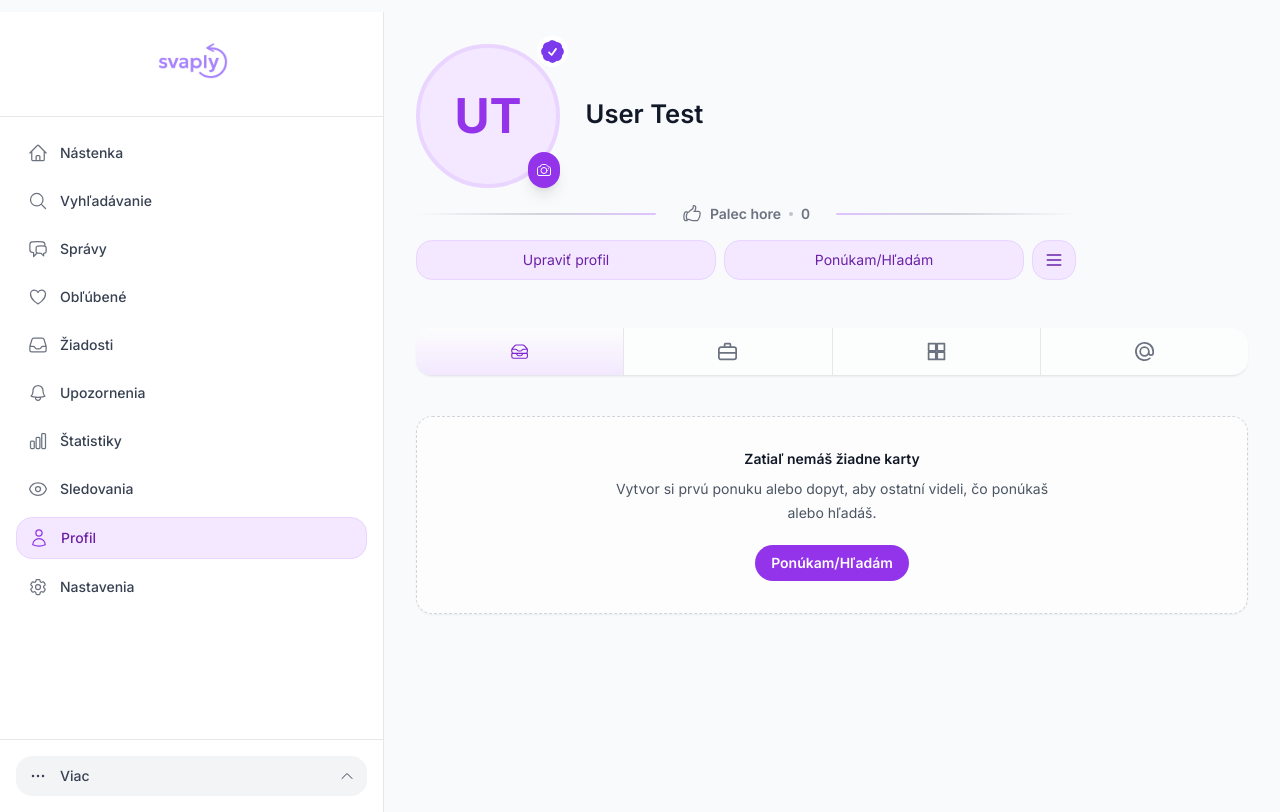
Scenario: Dashboard: scroll po uložení profilu naprieč zmenou obrazovky › desktop: po zrušení úpravy ostáva aktívna záložka profilu
What coordinates should you click on to do the following:
click the tab named "Portfólio"
I would click on:
 (727, 352)
Its box is [623,328,832,375].
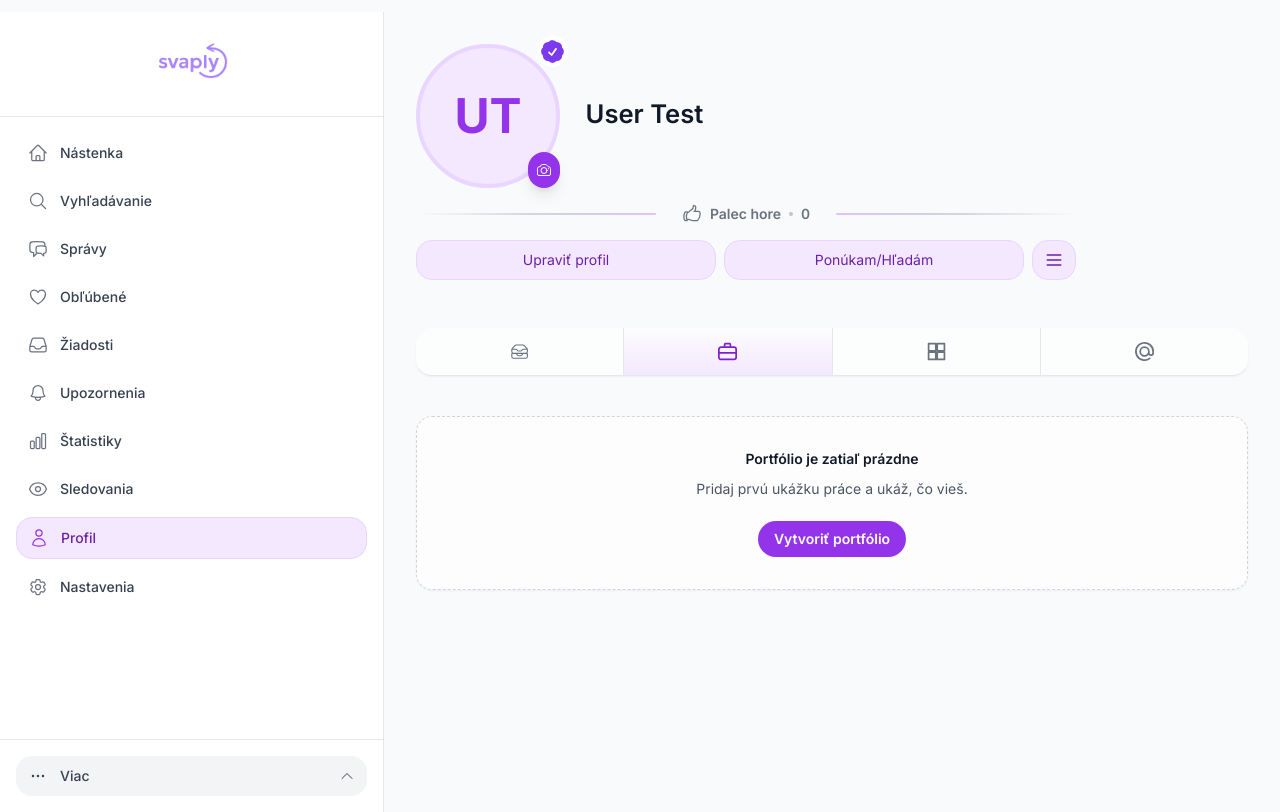
Now the tab named "Portfólio" is selected, box [623,328,832,375]
What coordinates should you click on to do the following:
click the button "Upraviť profil"
I would click on:
 (566, 260)
Its box is [416,240,716,280].
(page scrolled)
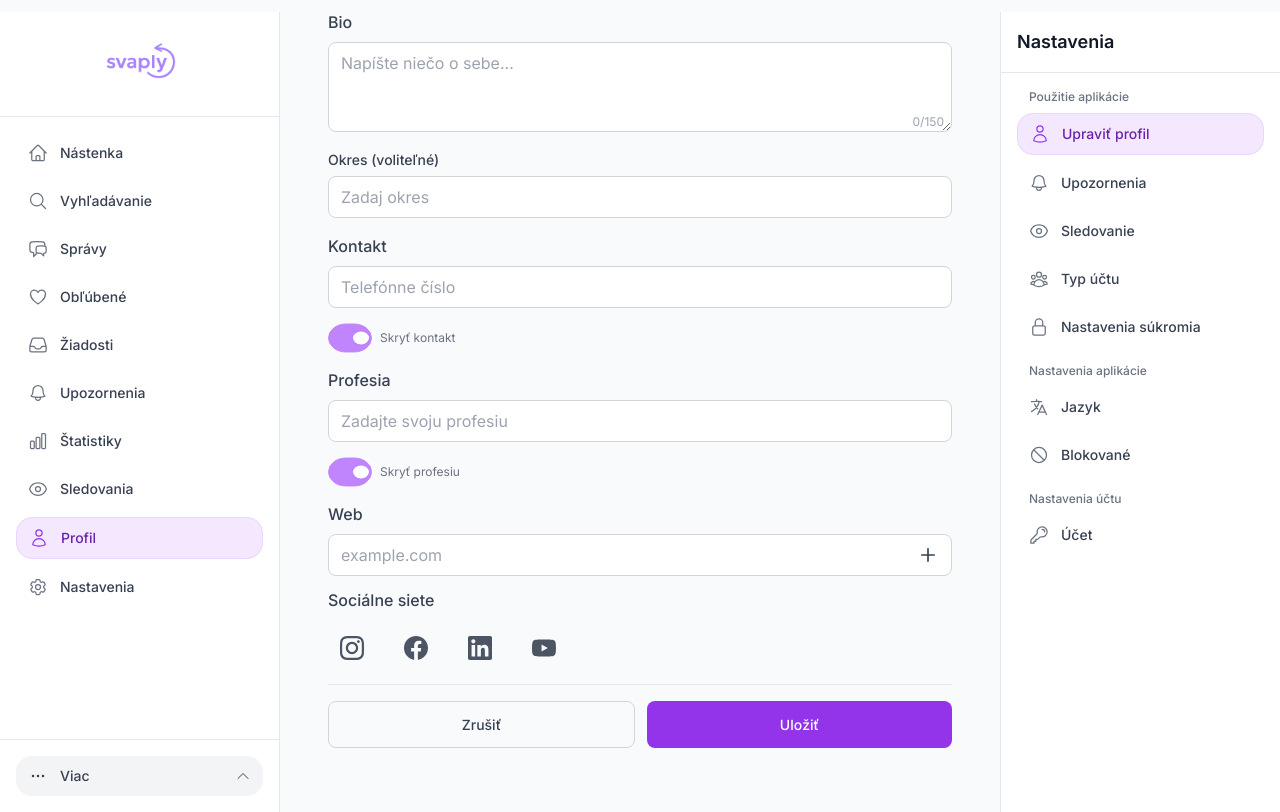
Now the button "Uložiť" is shown, box [647,701,952,748]
What coordinates should you click on to do the following:
click the button "Zrušiť"
I would click on:
 (482, 724)
Its box is [328,701,635,748].
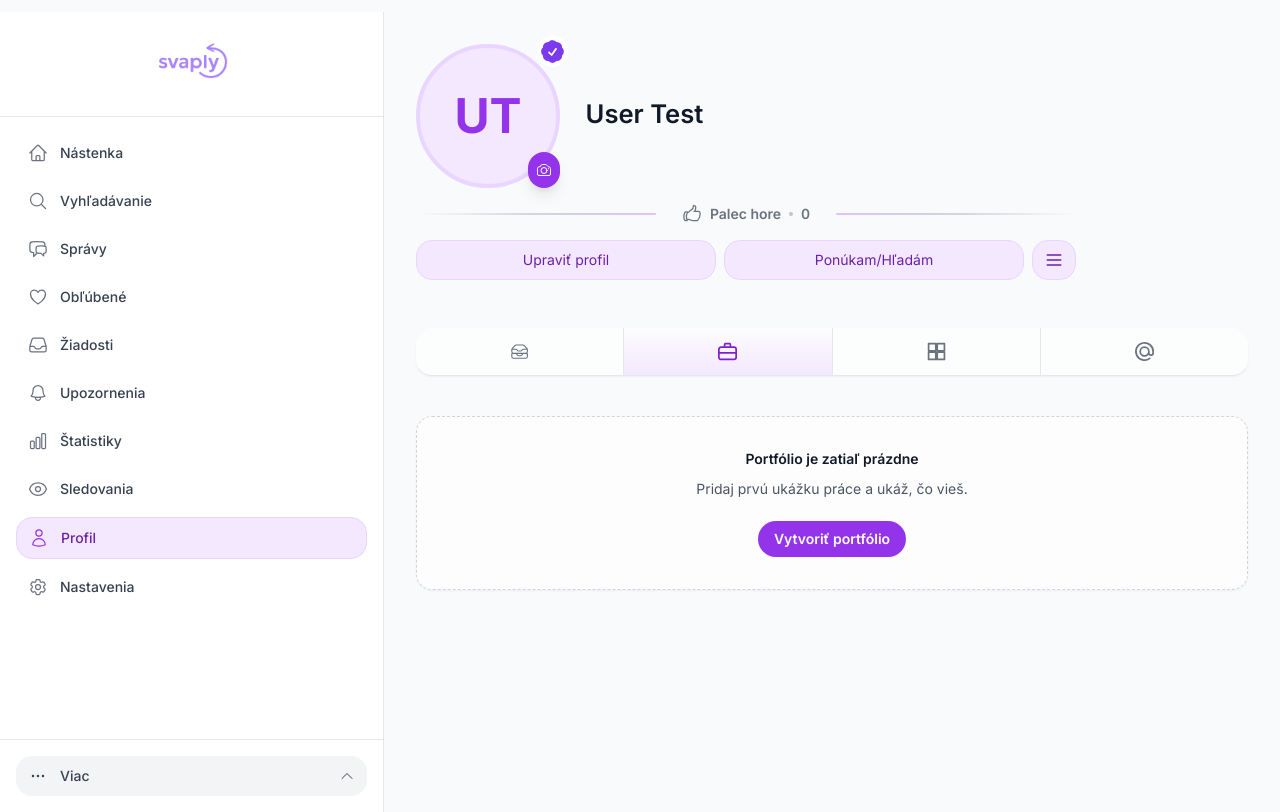
Now the button "Uložiť" is gone
